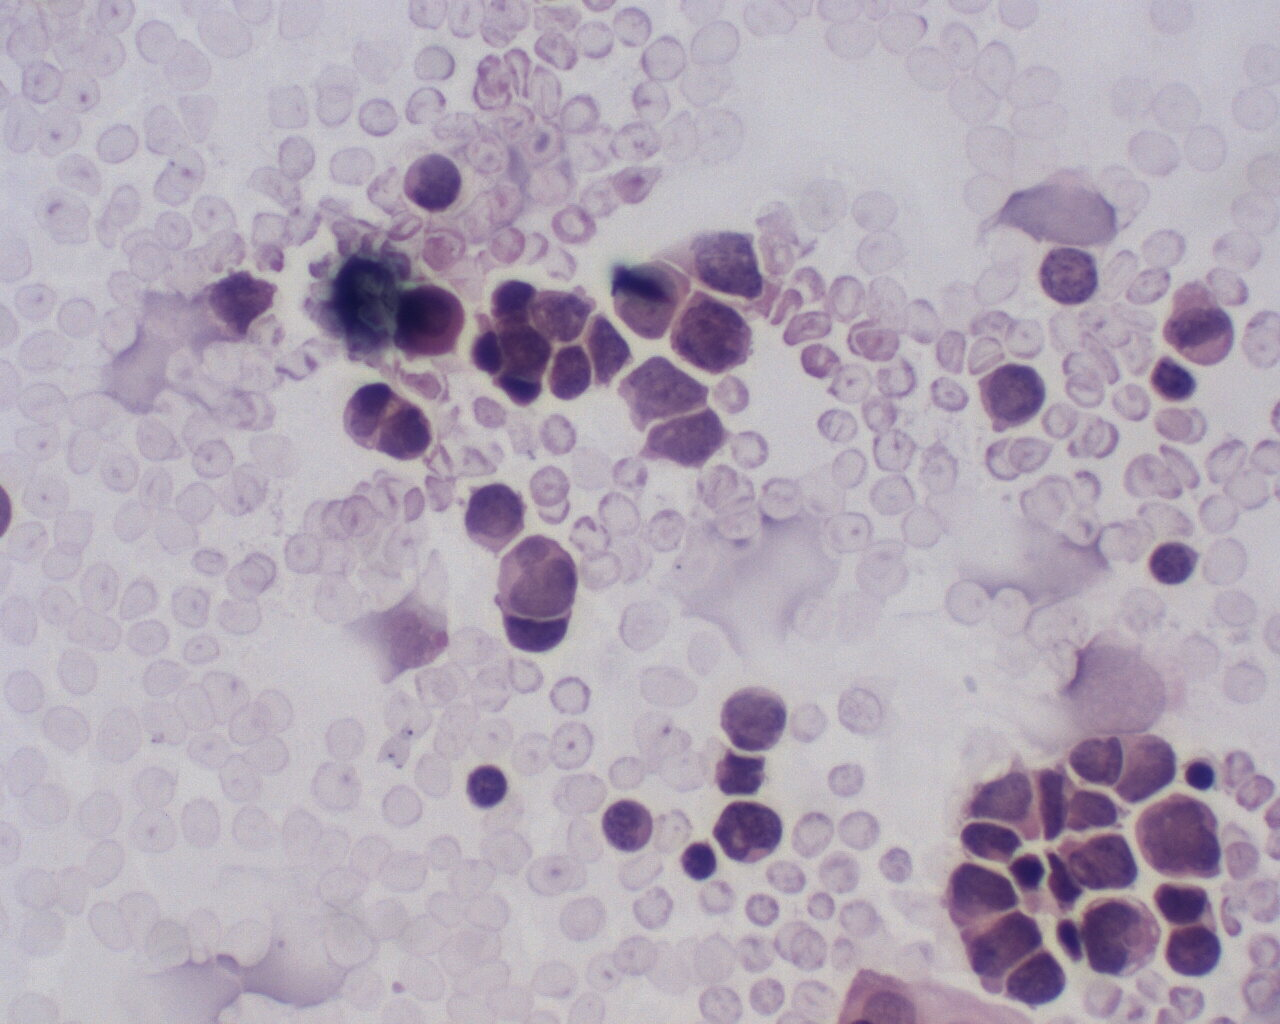ab: (490, 533, 581, 656), (1136, 786, 1232, 884), (1074, 892, 1162, 978), (961, 907, 1057, 983), (669, 292, 758, 374), (616, 358, 709, 426), (644, 401, 727, 470), (940, 858, 1035, 917), (977, 359, 1047, 437), (459, 486, 536, 553), (998, 947, 1077, 1011), (396, 285, 466, 356), (712, 800, 786, 864)
